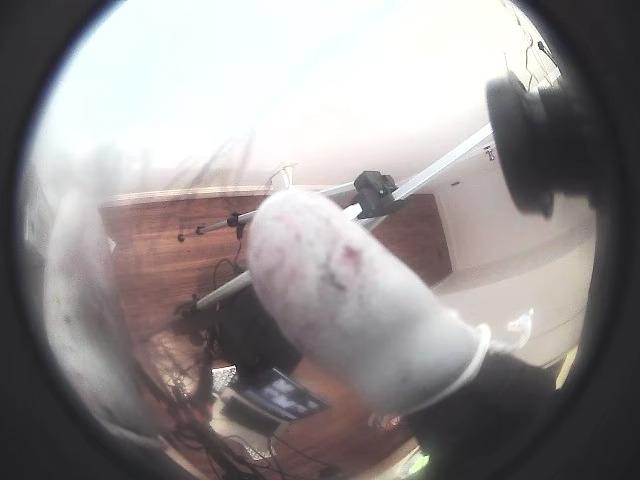gripper: (246, 189, 501, 412), (45, 193, 159, 444)
lense: (445, 0, 639, 479), (0, 0, 145, 479)
